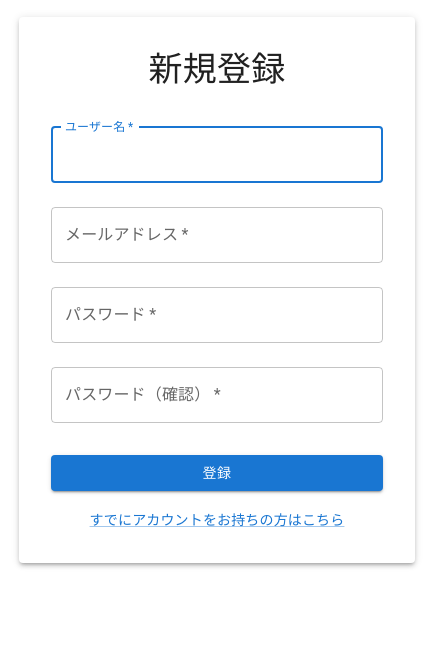
Register › shows error message on failed registration
Type "existinguser" into the field named "username" at (217, 155), box top-left (51, 127), bottom-right (383, 183)
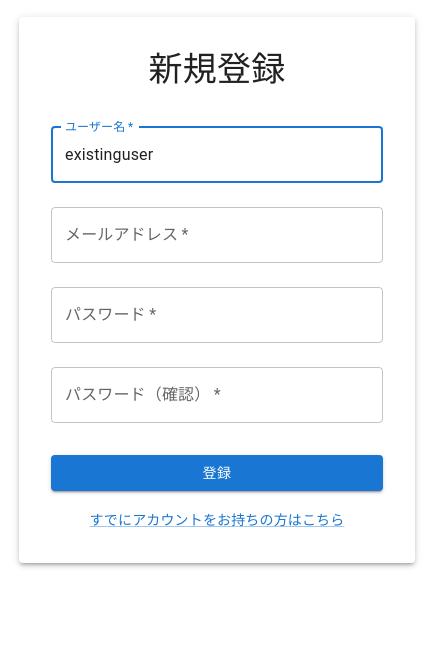
Type "test@example.com" into the field named "email" at (217, 235), box top-left (51, 207), bottom-right (383, 263)
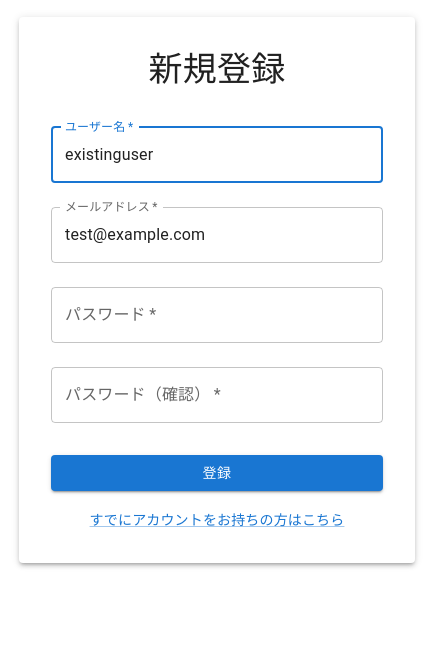
Type "password123" into the password field named "password" at (217, 315), box top-left (51, 287), bottom-right (383, 343)
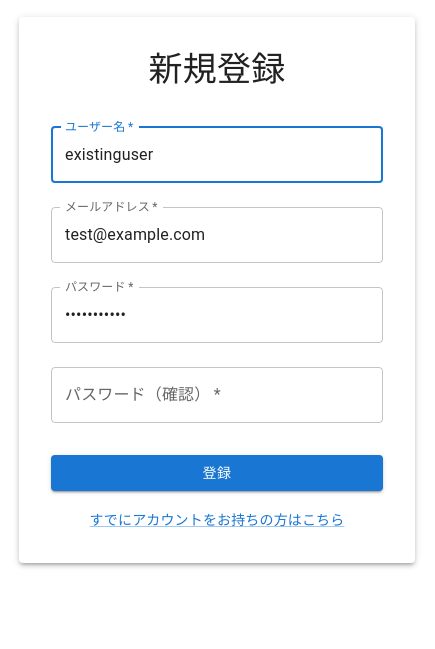
Type "password123" into the password field named "confirmPassword" at (217, 395), box top-left (51, 367), bottom-right (383, 423)
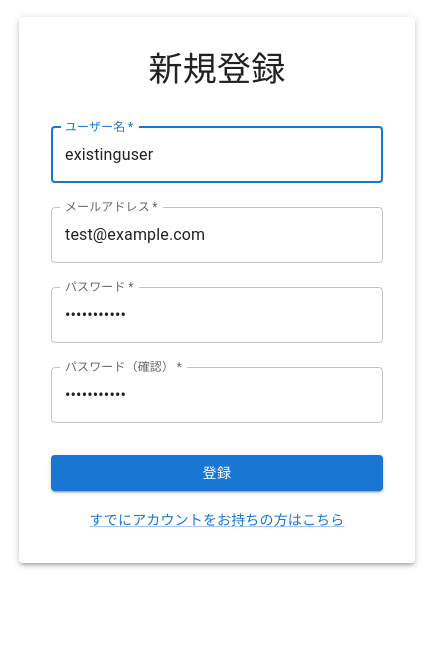
Click the button "登録" at (217, 473), box top-left (51, 455), bottom-right (383, 491)
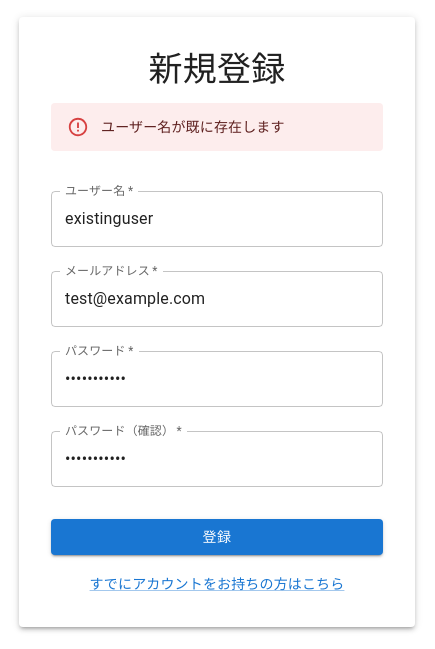
Check: the text "ユーザー名が既に存在します" is shown, box top-left (101, 119), bottom-right (285, 135)
